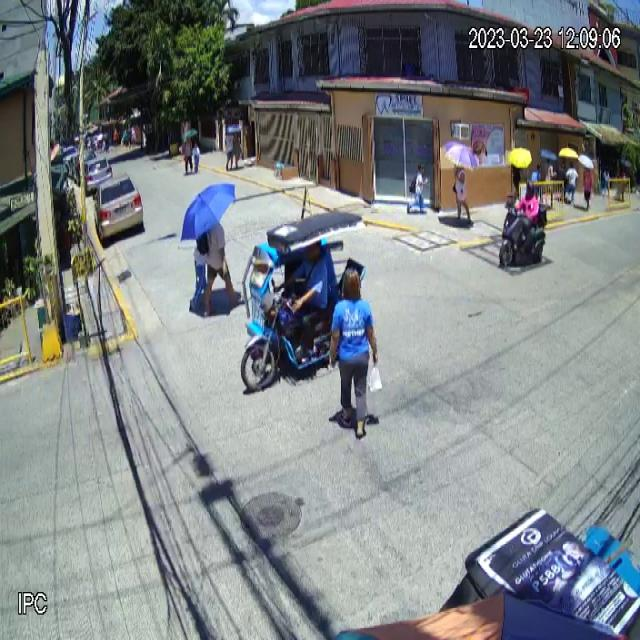Car: (95, 173, 144, 240)
Motorcycle: (499, 202, 548, 270)
Tricycle: (240, 210, 372, 393)
